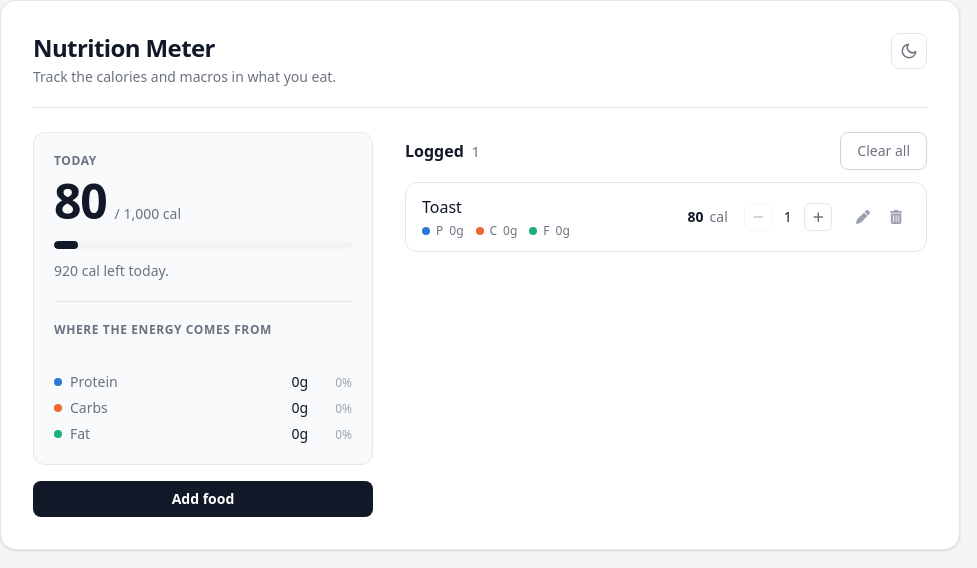
Test: editing › discards the draft when the edit is cancelled
The image size is (977, 568).
Click the button named "edit toast" at (863, 217), box [848,203,878,231]
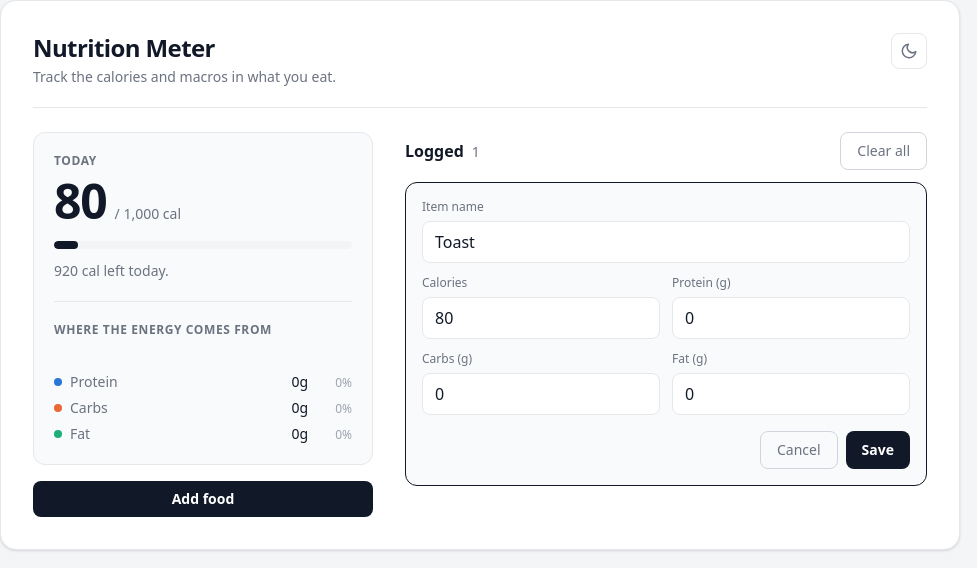
Replace the text in the field labelled "Item name" with "Brioche" at (666, 242), box [422,221,910,263]
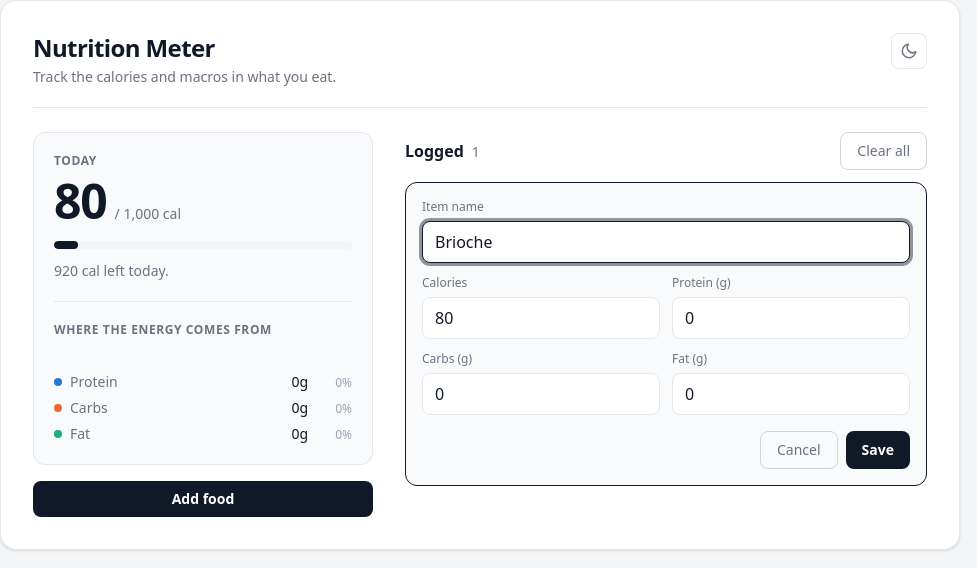
Click the button "Cancel" at (799, 450), box [760,431,838,469]
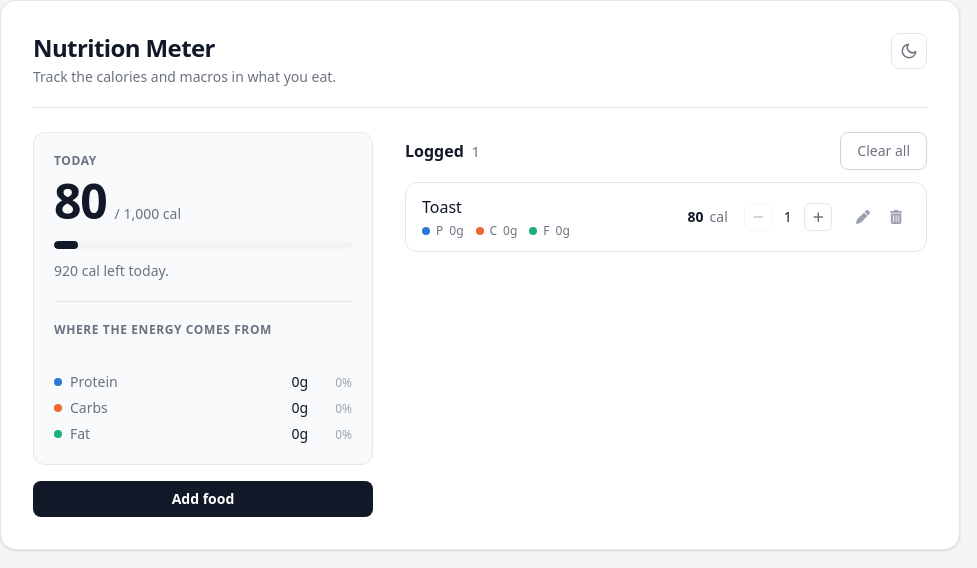
Check: the text "Brioche" is not shown
Check: the heading "Toast" is shown, box [422,196,462,218]
